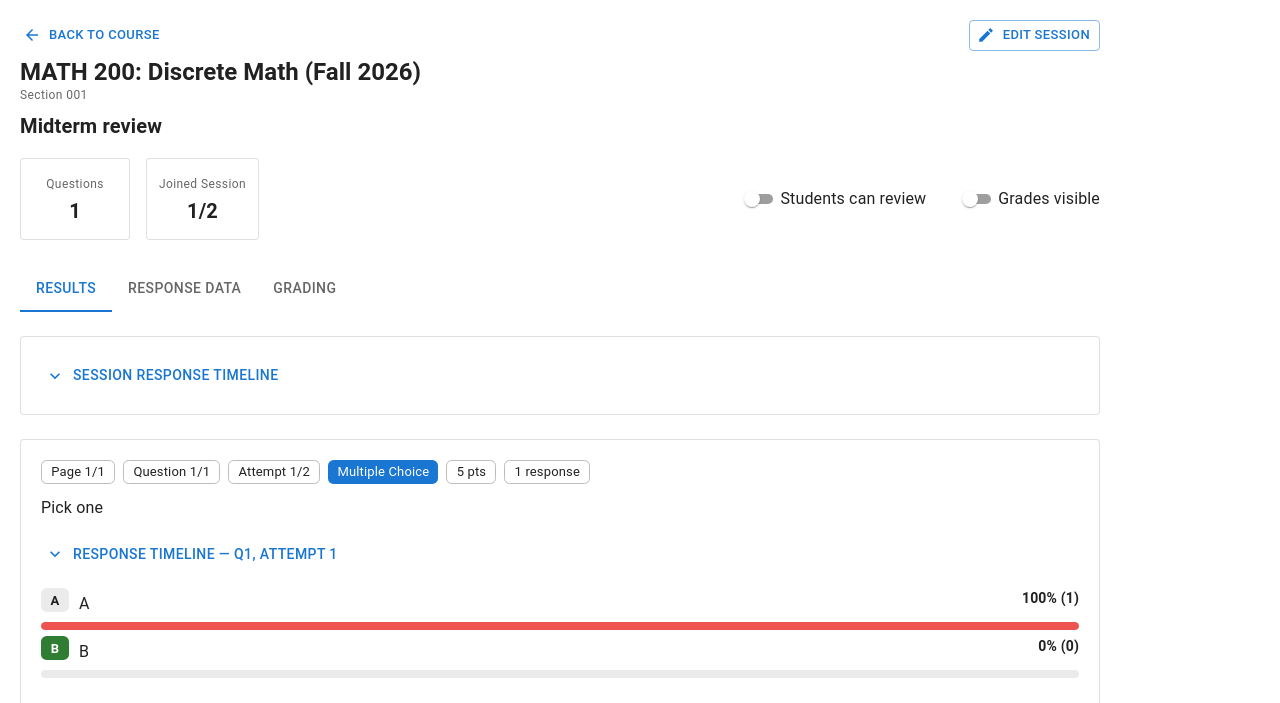
it: SessionReview › updates independent grade visibility without enabling review and retains state on failure
The width and height of the screenshot is (1280, 703).
Click the switch labelled "Grades visible".
click(1029, 199)  # box [958, 187, 1100, 211]
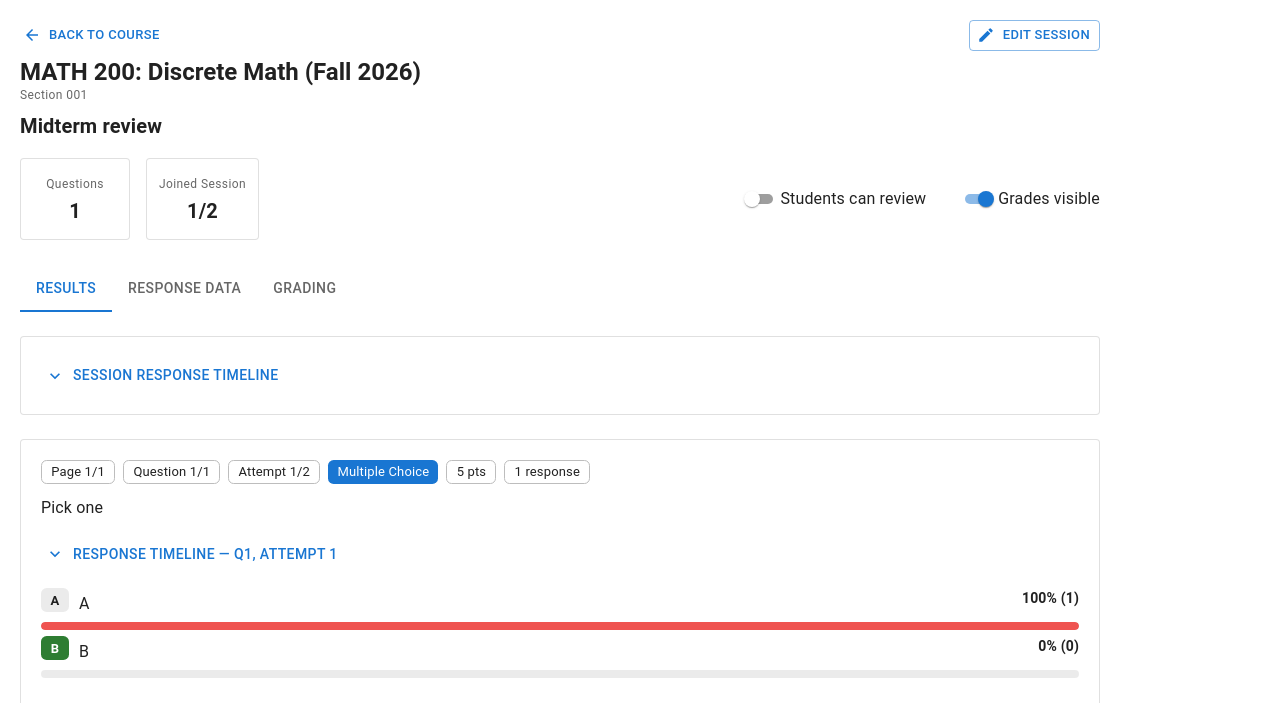
Expected: the switch named "Toggle student review access" is not checked, [740, 187, 926, 211]
Now the switch labelled "Grades visible" is checked
Click the switch labelled "Grades visible".
click(1029, 199)  # box [958, 187, 1100, 211]
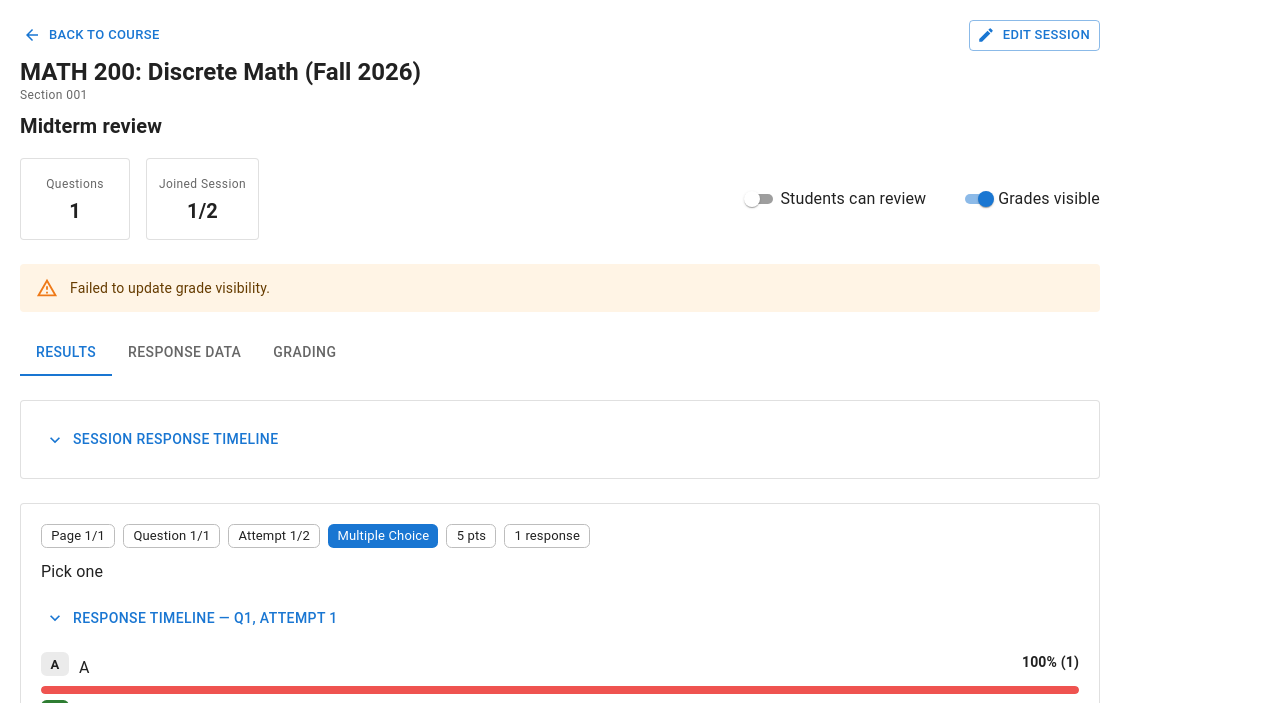
Now the switch labelled "Grades visible" is checked, box [958, 187, 1100, 211]
Now the text "Failed to update grade visibility." is shown, box [70, 280, 270, 296]
